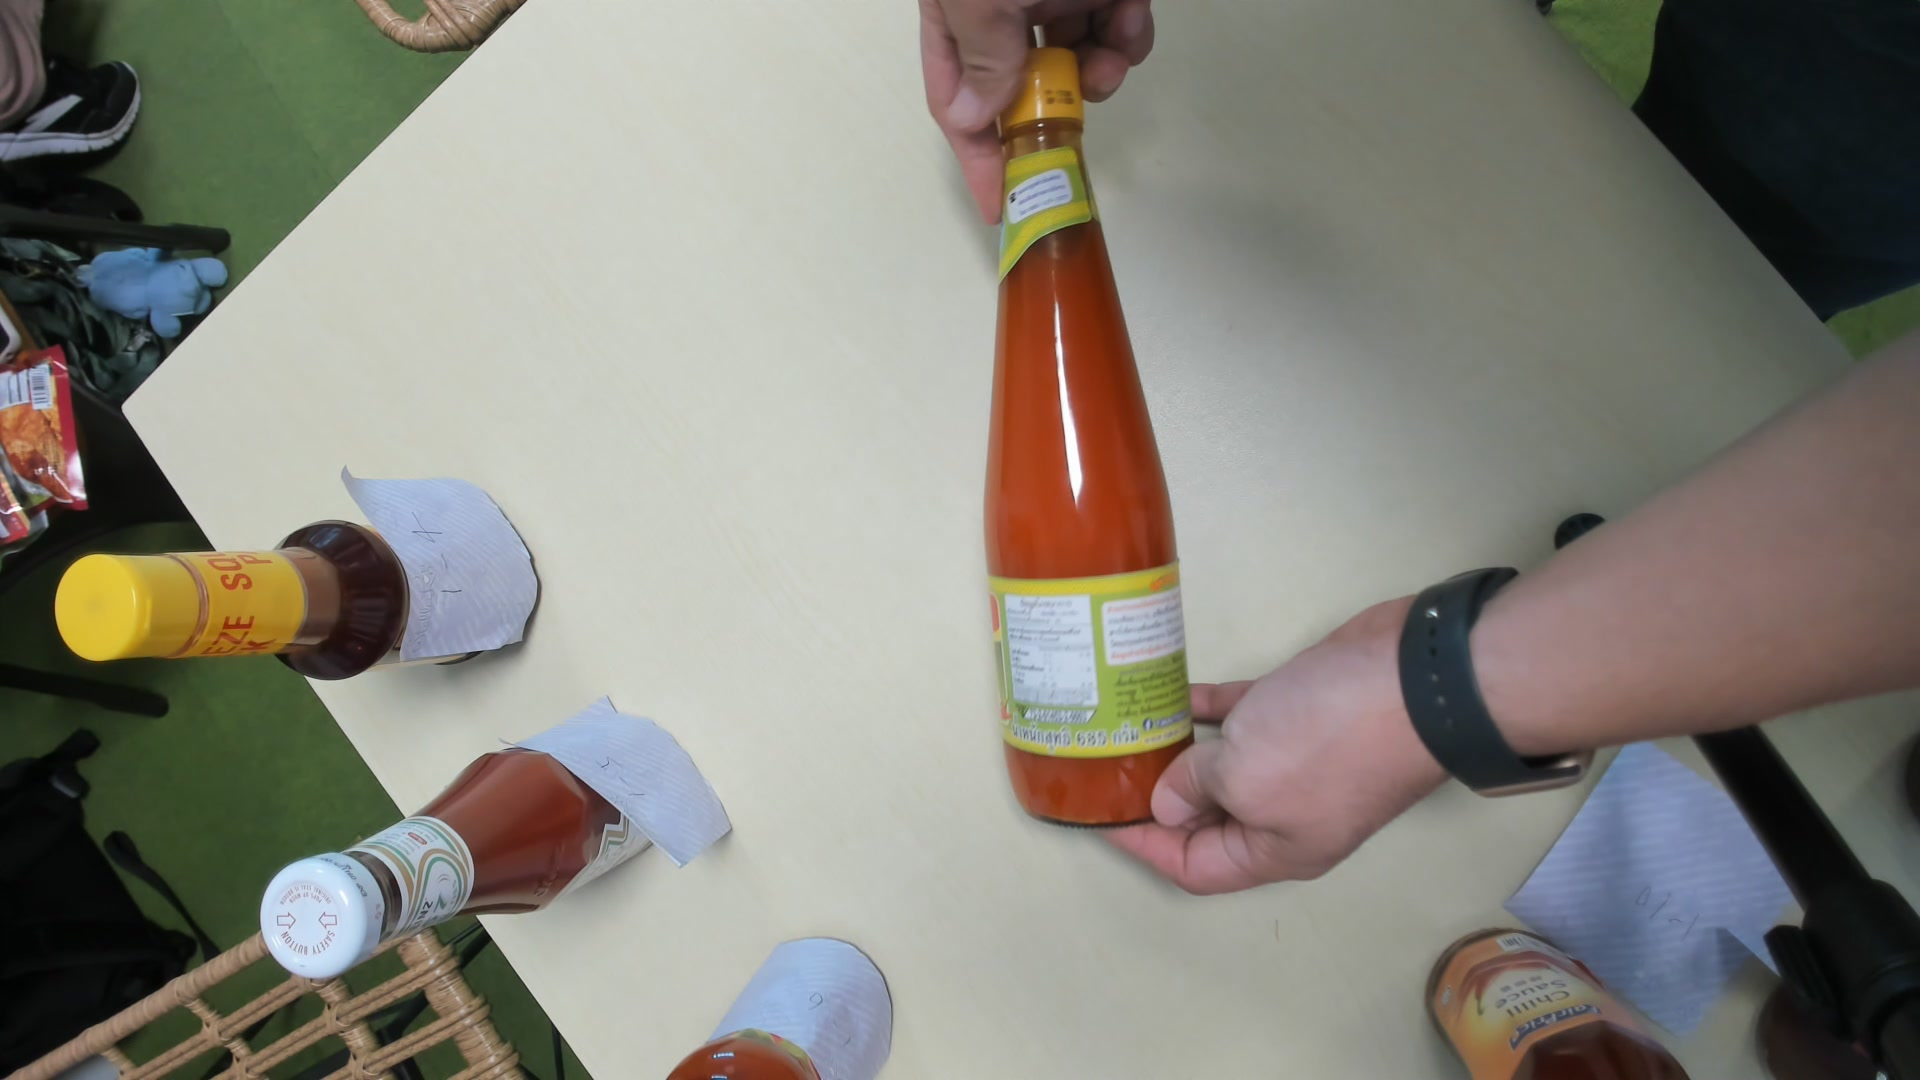KetchupChillSauce_600-699g_Halal_NonHealthy: (978, 51, 1197, 843)
